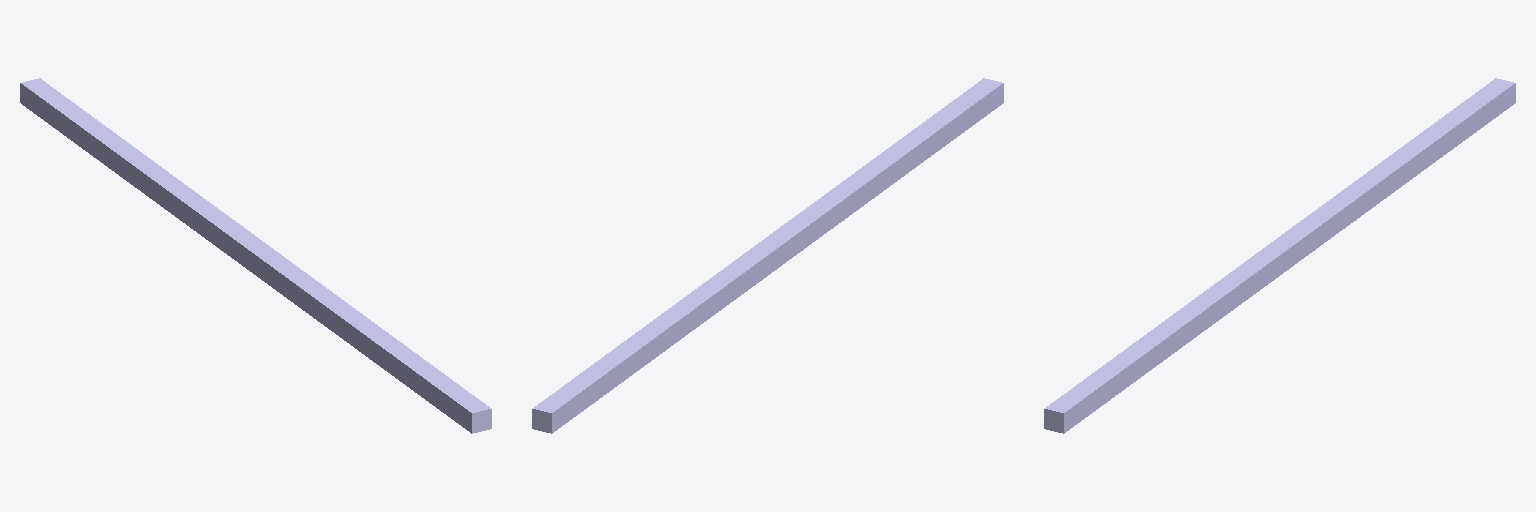
URDF robot description (hit_ball_with_queue_stopper1):
<?xml version="1.0"?>
<robot name="hit_ball_with_queue_stopper1">
    <link name="robot_base">
        <inertial>
            <origin rpy="0.000000 0.000000 0.000000" xyz="0.314600 0.000000 0.760000" />
            <inertia iyy="0.0010572118600667" iyz="1.5656470670435e-11" ixx="0.00078661598519292" izz="3.3149268293965e-07" ixz="-5.8811612722704e-12" ixy="-3.9376787719559e-14" />
            <mass value="0.067200005054474" />
        </inertial>
        <collision name="hit_ball_with_queue_stopper1">
            <origin rpy="-3.141593 3.141593 -3.141593" xyz="0.335400 0.000000 0.761000" />
            <geometry>
                <box size="0.000400 0.016000 0.000400" />
            </geometry>
        </collision>    
        <visual name="hit_ball_with_queue_stopper1">
            <origin rpy="-3.141593 3.141593 -3.141593" xyz="0.335400 0.000000 0.761000" />
            <geometry>
                <box size="0.000400 0.016000 0.000400" />
            </geometry>
            <material name="robot_base_material">
                <color rgba="0.850000 0.850000 1.000000 1.0" />
            </material>
        </visual>
    </link>
</robot>

--- What the picture shows (computed from the rendered views, not written in the file) ---
The picture shows the robot from 3 angles, left to right: view 1: azimuth 30°, elevation 25°; view 2: azimuth 150°, elevation 25°; view 3: azimuth 330°, elevation 25°; orthographic projection.
Robot: hit_ball_with_queue_stopper1 — 1 links, 0 joints (none); root link robot_base; default pose: every joint at zero.
Links seen in each view (by area): view 1: robot_base; view 2: robot_base; view 3: robot_base.
Link boxes in pixels (left/top/right/bottom): robot_base: left=20, top=78, right=491, bottom=433; robot_base: left=532, top=78, right=1003, bottom=433; robot_base: left=1044, top=78, right=1515, bottom=433.
Bounding box of the posed robot: 0.0004 × 0.016 × 0.0004 m (x, y, z).
Geometry: primitives only (box / cylinder / sphere), no mesh files.
